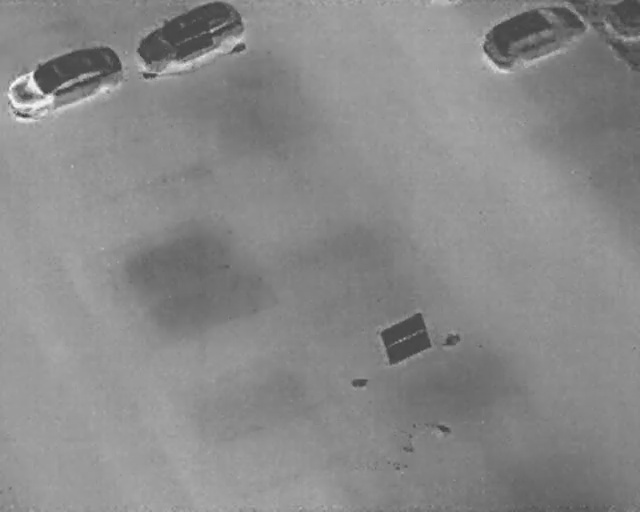Car: (0, 35, 131, 127), (135, 0, 249, 80), (474, 0, 589, 78), (601, 0, 639, 44)
